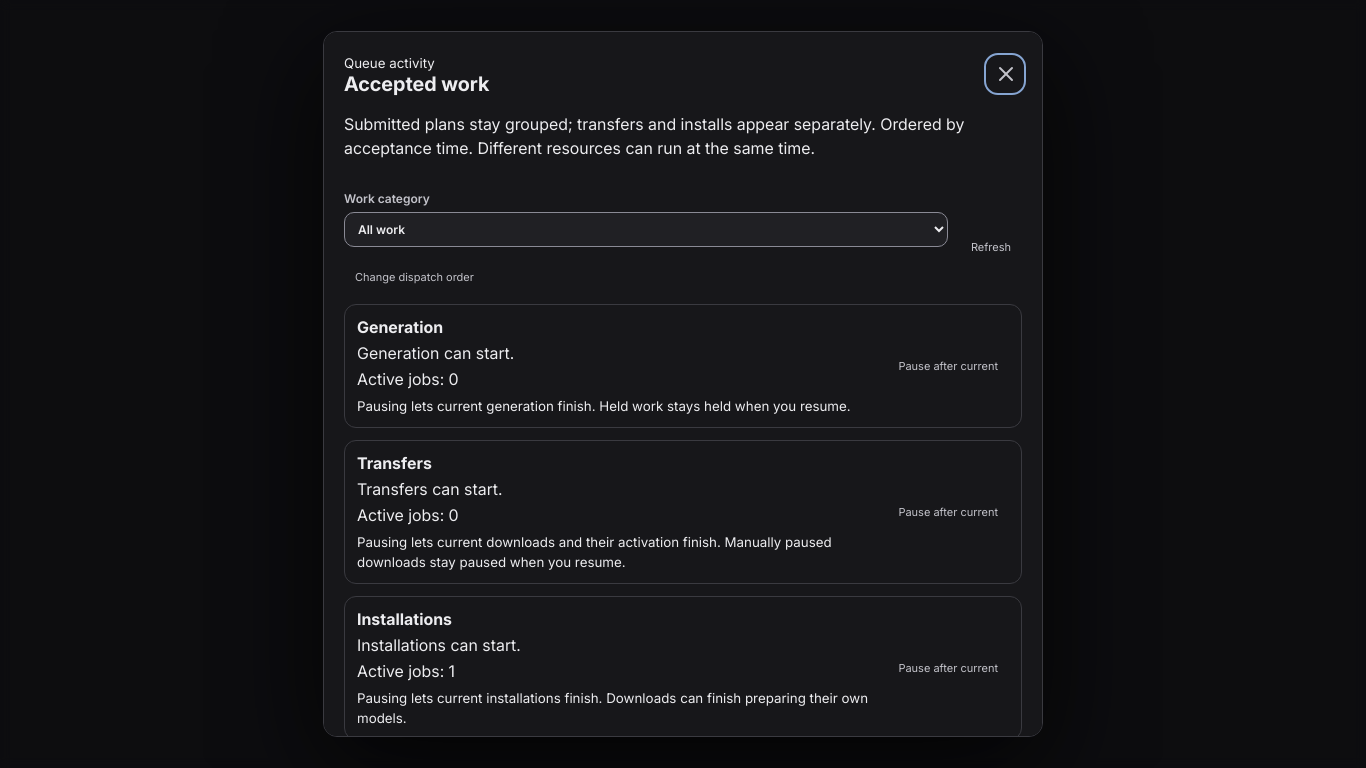
Test: shows draining until the fetched durable state becomes paused, then resumes explicitly
Click the button with aria-label "Pause installations after current work" at (948, 668), box [887, 653, 1009, 683]
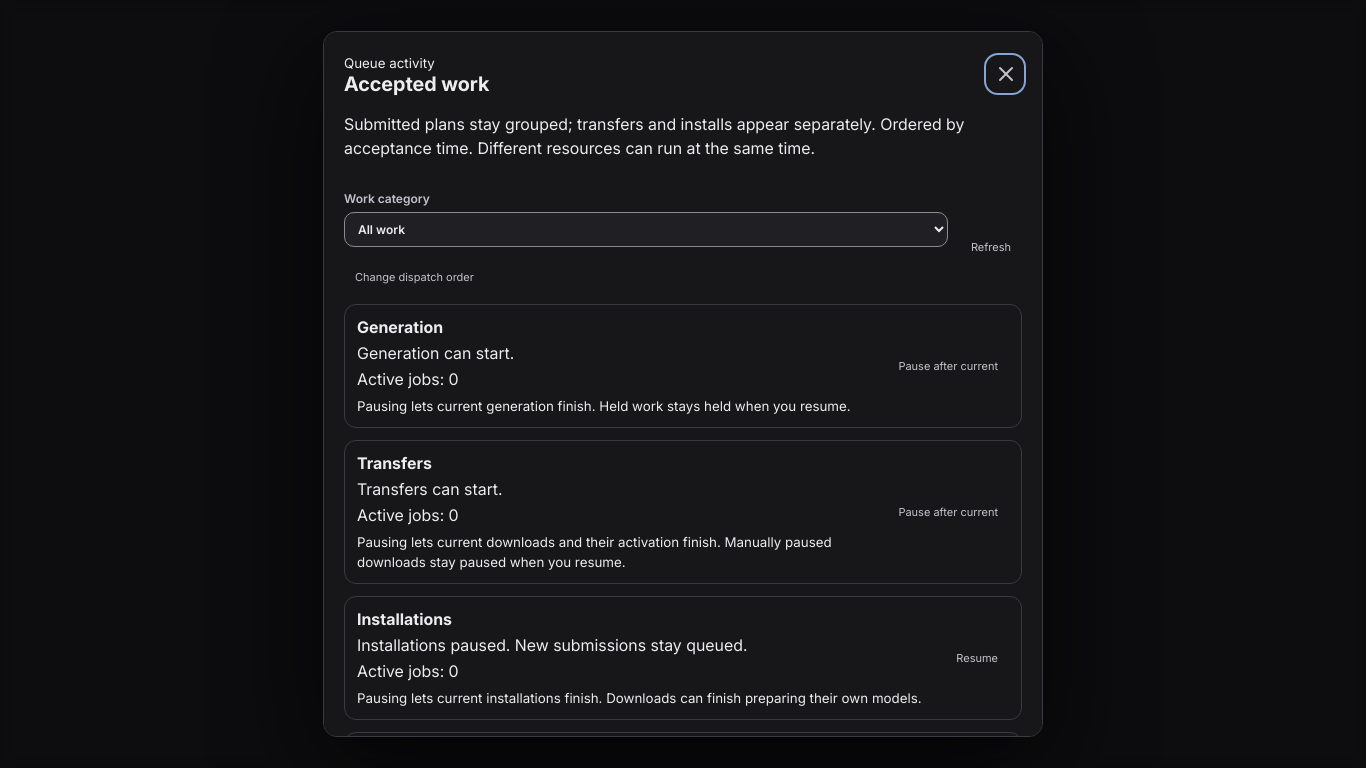
expect the text "Installations paused. New submissions stay queued." is shown: met, box [357, 635, 747, 655]
Click the button with aria-label "Resume installations" at (977, 658), box [945, 643, 1009, 673]
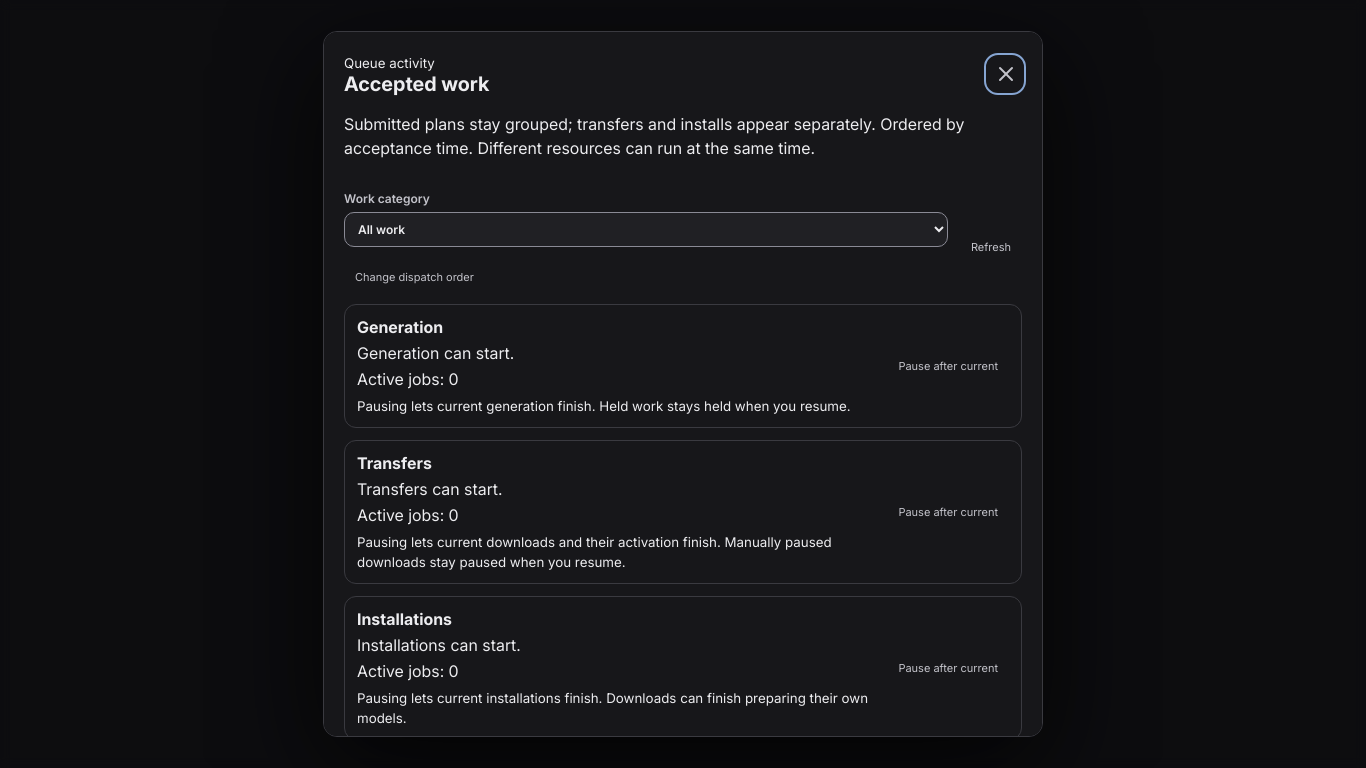
expect the button with aria-label "Pause installations after current work" is shown: met, box [887, 653, 1009, 683]
